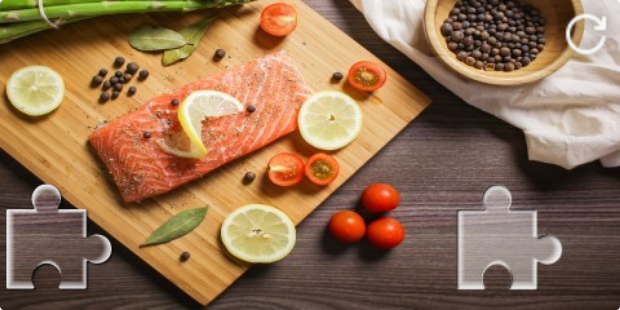target: (458, 185, 563, 290)
